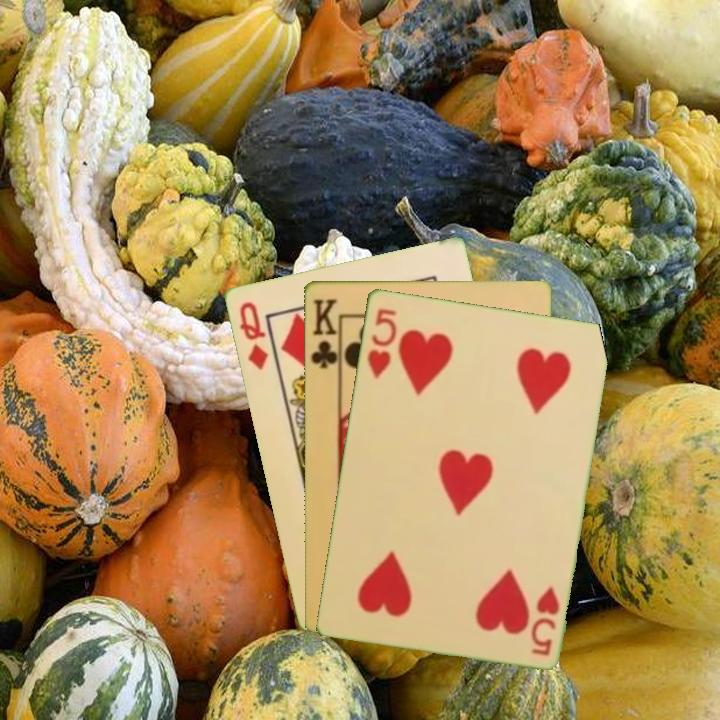5h: (363, 304, 399, 382), (527, 582, 563, 658)
Kc: (307, 294, 342, 374)
Qd: (235, 298, 271, 373)
